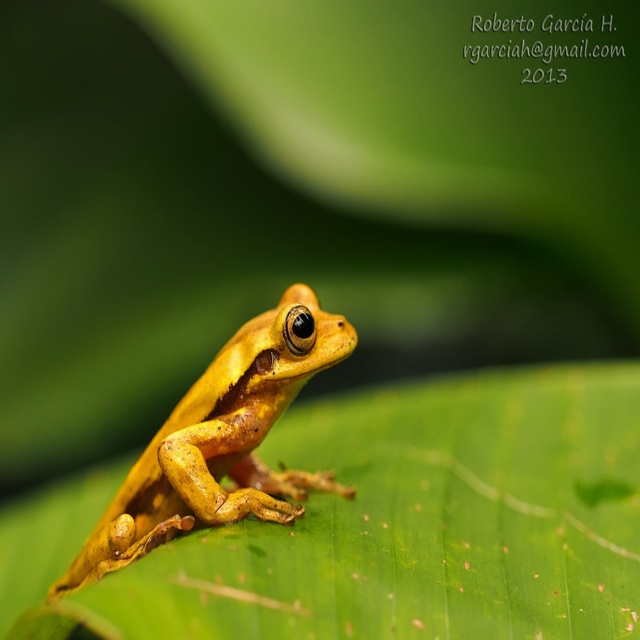Frog: (46, 285, 358, 608)
